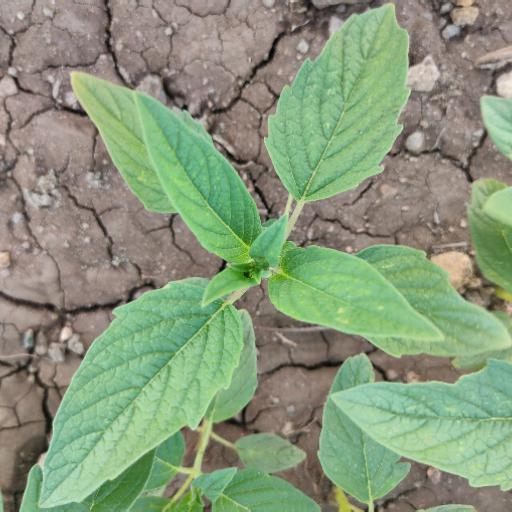crop: (3, 7, 512, 509)
